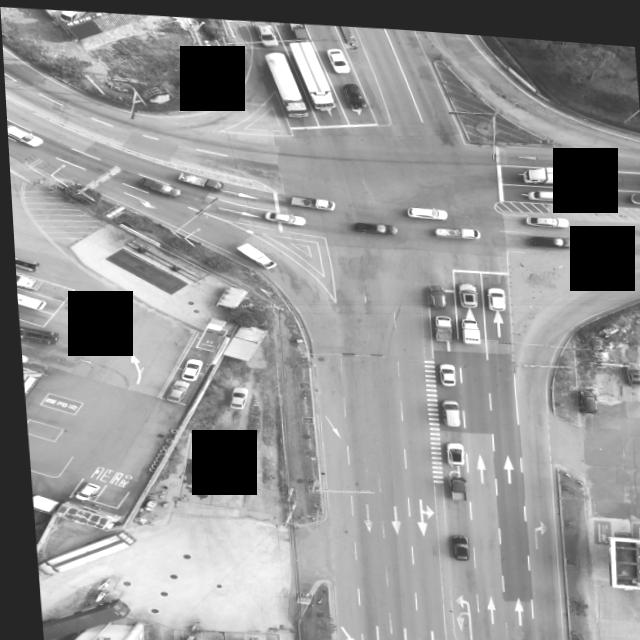car: (134, 174, 179, 196), (6, 124, 41, 147), (523, 225, 571, 241), (340, 78, 364, 106), (156, 377, 183, 401), (262, 205, 303, 220), (327, 43, 350, 69), (349, 216, 395, 229), (522, 205, 567, 218), (435, 393, 456, 420), (175, 355, 199, 378), (404, 200, 445, 213), (221, 381, 243, 405), (618, 352, 639, 377), (572, 379, 593, 404), (67, 481, 94, 500), (454, 275, 474, 300), (256, 19, 277, 42), (443, 528, 462, 553), (423, 278, 443, 301), (524, 179, 558, 192), (484, 279, 503, 302), (439, 435, 458, 458), (436, 353, 455, 376), (433, 357, 451, 380), (626, 181, 640, 194)
medium_truck: (31, 526, 132, 580), (259, 43, 310, 115), (285, 30, 333, 105), (520, 153, 611, 182), (15, 324, 54, 344)
small_bus: (14, 293, 41, 310)
small_truck: (231, 238, 274, 266), (175, 166, 224, 187), (287, 189, 336, 205), (429, 219, 476, 234), (455, 311, 476, 338), (428, 308, 449, 335), (446, 467, 465, 492), (288, 18, 310, 35), (13, 274, 36, 289), (12, 257, 33, 268)
